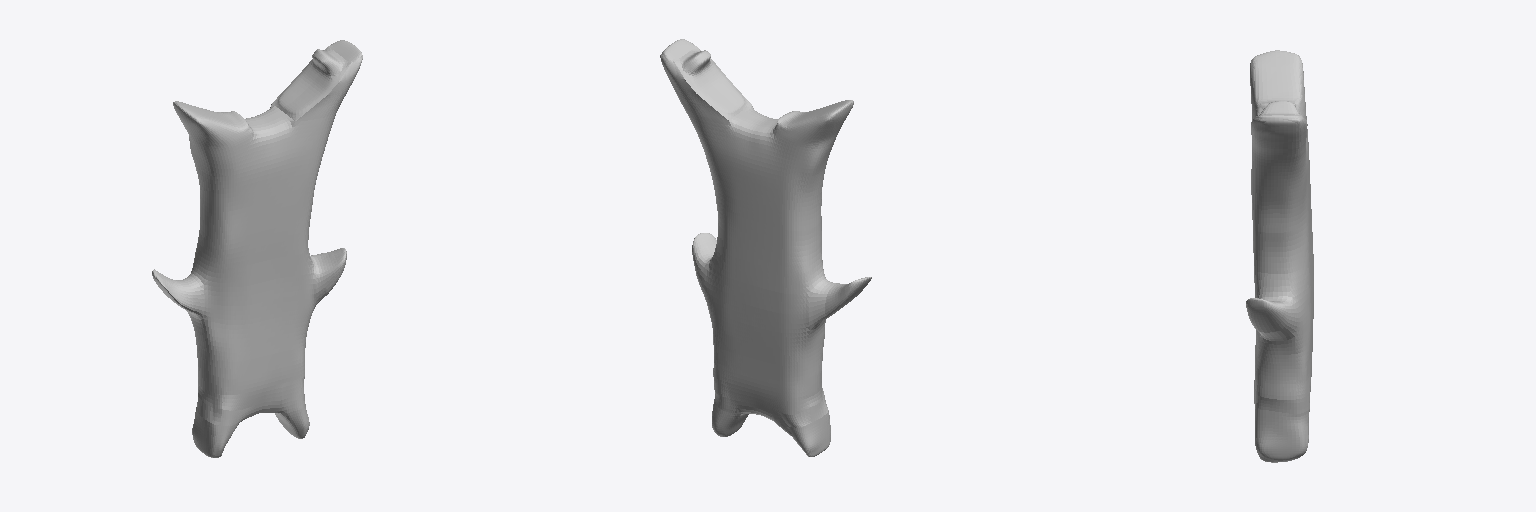
File: korok28.obj
The picture shows the model from 3 angles: view 1: azimuth 30°, elevation 25°; view 2: azimuth 150°, elevation 25°; view 3: azimuth 270°, elevation 25°; orthographic projection.
Parts seen in each view (by area): view 1: Plane; view 2: Plane; view 3: Plane.
Part boxes in pixels (bbox=[...]): Plane: bbox=[152, 40, 362, 457]; Plane: bbox=[660, 39, 871, 456]; Plane: bbox=[1246, 50, 1313, 462].
Size of the model in its own units: 1.01 by 1.82 by 0.3003.